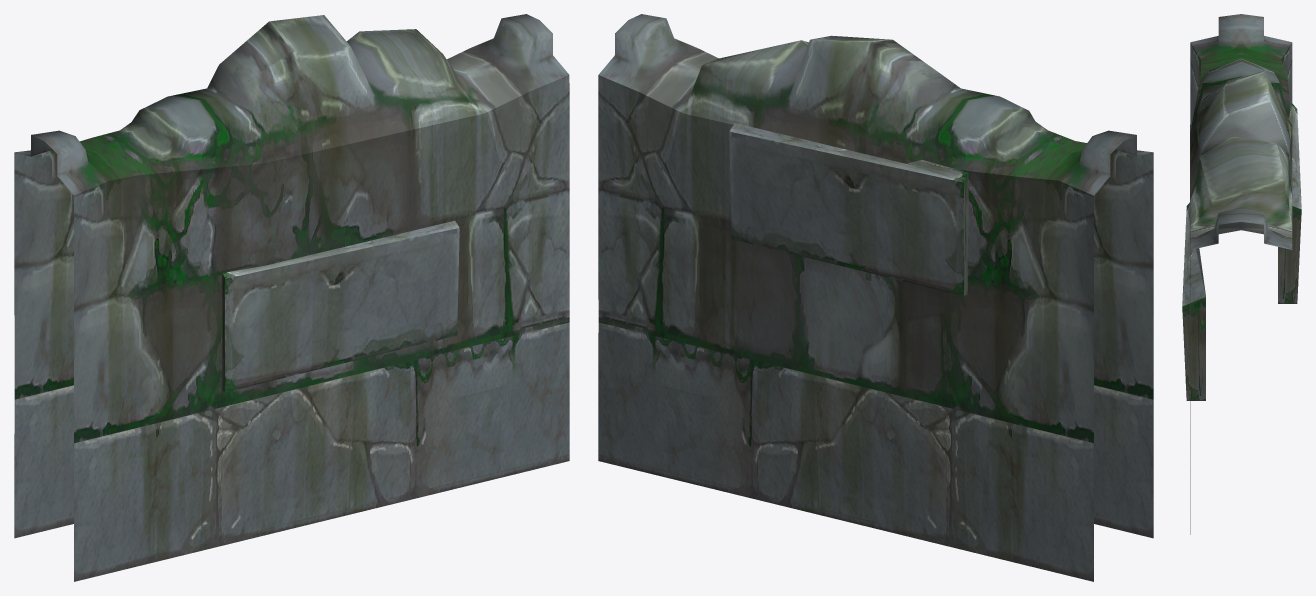
The model's file is stemple_half_straight_shadow_05.fbx.
3 renders of one model, left to right at view 1: azimuth 30°, elevation 25°; view 2: azimuth 150°, elevation 25°; view 3: azimuth 270°, elevation 25°, orthographic. The views are drawn at different scales.
Parts seen in each view (by area): view 1: stemple_half_straight_shadow_05-0; view 2: stemple_half_straight_shadow_05-0; view 3: stemple_half_straight_shadow_05-0.
Part boxes in pixels (x1=…): stemple_half_straight_shadow_05-0: x1=14, y1=14, x2=569, y2=581; stemple_half_straight_shadow_05-0: x1=598, y1=14, x2=1153, y2=581; stemple_half_straight_shadow_05-0: x1=1182, y1=14, x2=1301, y2=534.
Size of the model in its own units: 4 by 3.62 by 0.9723.
